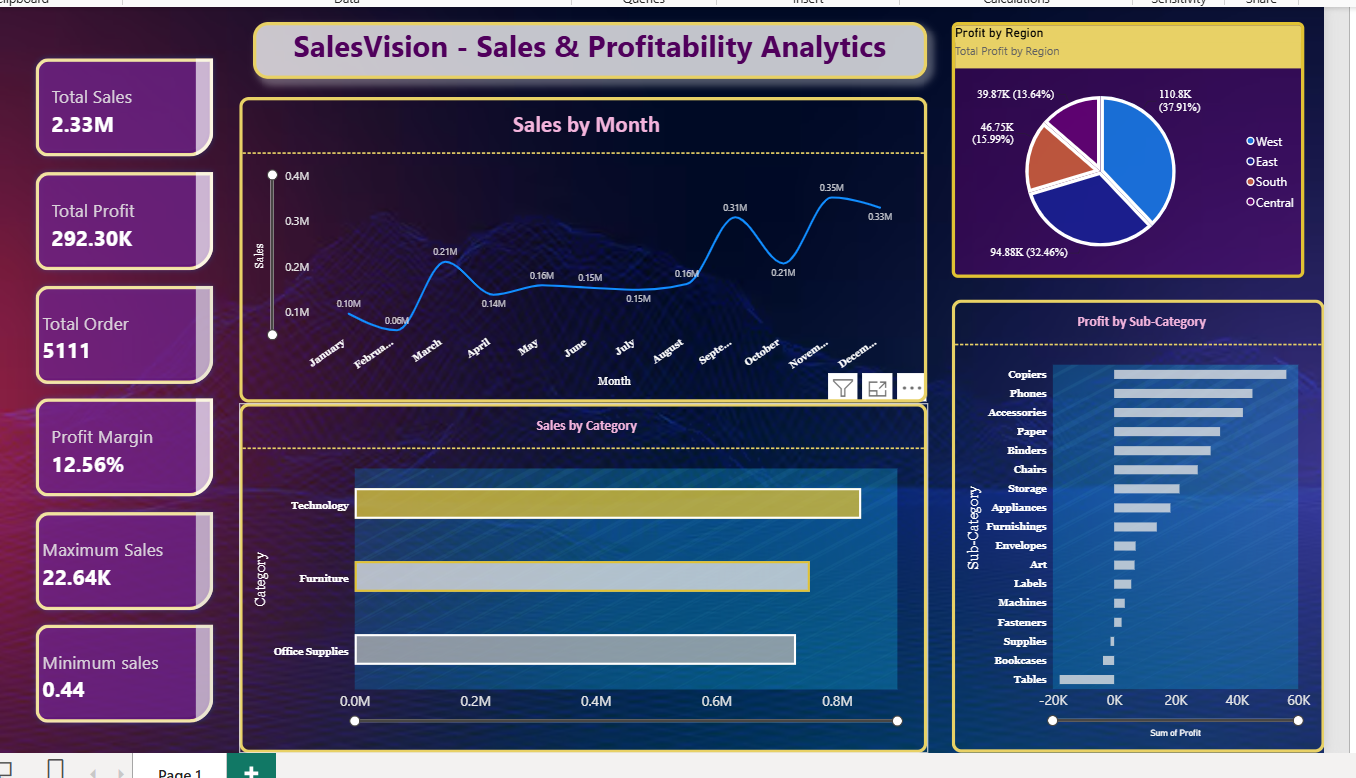

The dashboard page shown, as its layout file describes it:
{"tool":"powerbi","page":{"name":"Page 1","canvas":[1920,1080],"ordinal":0},"visuals":[{"type":"cardVisual","fields":{"Data":["Sum(salesvision_cleaned.Sales)"]},"box":[44,64,279.9,164.7],"z":0},{"type":"cardVisual","fields":{"Data":["Sum(salesvision_cleaned.Profit)"]},"box":[44,228,279.9,164.7],"z":1000},{"type":"cardVisual","fields":{"Data":["Count(salesvision_cleaned.Order ID)"]},"box":[44,392,279.9,164.7],"z":2000},{"type":"cardVisual","fields":{"Data":["salesvision_cleaned.Profit margin Measurs"]},"box":[44,556,279.9,164.7],"z":3000},{"type":"clusteredBarChart","title":"Sales by Category","fields":{"Category":["salesvision_cleaned.Category"],"Y":["Sum(salesvision_cleaned.Sales)"]},"box":[350,574,996,506],"z":4000},{"type":"pieChart","title":"Profit by Region","fields":{"Category":["salesvision_cleaned.Region"],"Y":["salesvision_cleaned.Total Profit"]},"box":[1380,22,510,370],"z":5000},{"type":"clusteredBarChart","title":"Profit by Sub-Category","fields":{"Category":["salesvision_cleaned.Sub-Category"],"Y":["Sum(salesvision_cleaned.Profit)"]},"box":[1380,424,540,656],"z":6000},{"type":"cardVisual","fields":{"Data":["Max(salesvision_cleaned.Sales)"]},"box":[44,720,279.9,164.7],"z":7000},{"type":"cardVisual","fields":{"Data":["Min(salesvision_cleaned.Sales)"]},"box":[44,884,279.9,164.7],"z":8000},{"type":"textbox","box":[370,22,976,82],"z":9000},{"type":"lineChart","fields":{"Category":["salesvision_cleaned.Order Date.Variation.Date Hierarchy.Month"],"Y":["Sum(salesvision_cleaned.Sales)"]},"box":[350,130,996,442],"z":9001}]}

Visuals, with their boxes in screenshot pixels (x1, y1, x2, y2):
cardVisual - Sum(salesvision_cleaned.Sales): x1=17, y1=38, x2=211, y2=152
cardVisual - Sum(salesvision_cleaned.Profit): x1=17, y1=152, x2=211, y2=266
cardVisual - Count(salesvision_cleaned.Order ID): x1=17, y1=266, x2=211, y2=381
cardVisual - salesvision_cleaned.Profit margin Measurs: x1=17, y1=380, x2=211, y2=495
"Sales by Category" clusteredBarChart: x1=230, y1=393, x2=923, y2=745
"Profit by Region" pieChart: x1=947, y1=8, x2=1302, y2=266
"Profit by Sub-Category" clusteredBarChart: x1=947, y1=288, x2=1323, y2=745
cardVisual - Max(salesvision_cleaned.Sales): x1=17, y1=494, x2=211, y2=609
cardVisual - Min(salesvision_cleaned.Sales): x1=17, y1=609, x2=211, y2=723
textbox: x1=244, y1=8, x2=923, y2=65
lineChart - salesvision_cleaned.Order Date.Variation.Date Hierarchy.Month x Sum(salesvision_cleaned.Sales): x1=230, y1=83, x2=923, y2=391
